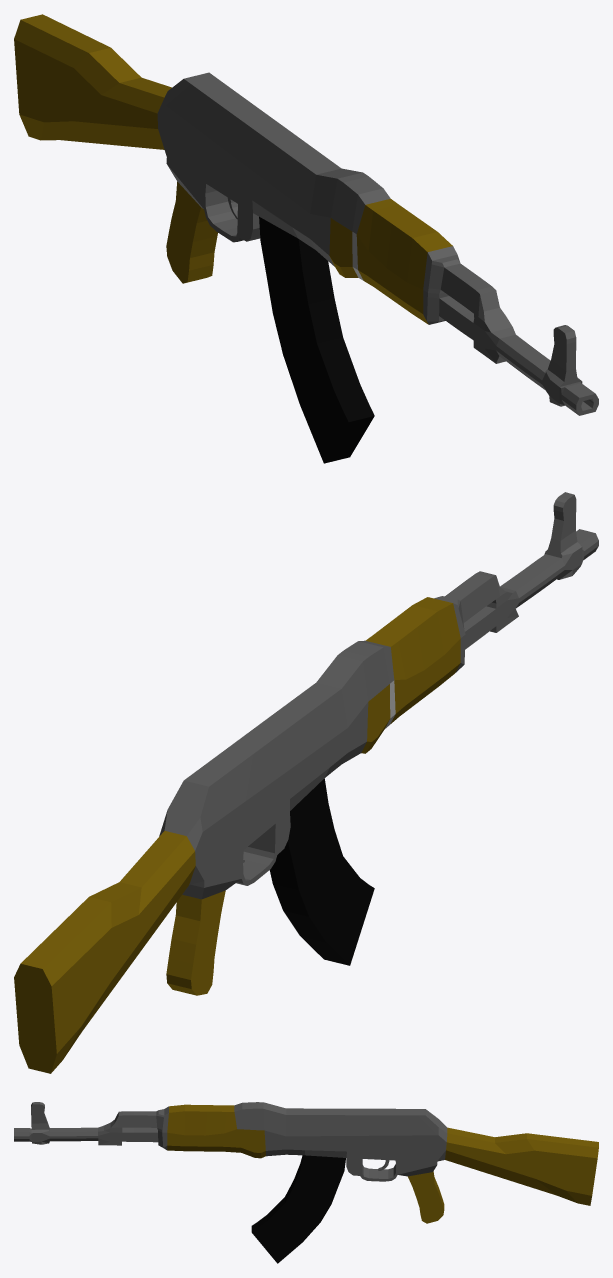
3 views of the same model, one above another, from view 1: azimuth 30°, elevation 25°; view 2: azimuth 150°, elevation 25°; view 3: azimuth 270°, elevation 25° (orthographic). The views are drawn at different scales.
Visible parts, largest first — view 1: Low_Poly_AK_47:Mesh; view 2: Low_Poly_AK_47:Mesh; view 3: Low_Poly_AK_47:Mesh.
Boxes of the visible parts, x1=… form: Low_Poly_AK_47:Mesh: x1=14, y1=14, x2=598, y2=463; Low_Poly_AK_47:Mesh: x1=14, y1=492, x2=598, y2=1073; Low_Poly_AK_47:Mesh: x1=14, y1=1102, x2=598, y2=1263.
Bounding box in the file's own units: 0.1889 × 1.44 × 4.84.
